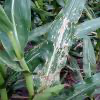Corn Gray leaf spot: (33, 0, 88, 95), (11, 2, 34, 52), (19, 19, 58, 43), (66, 72, 99, 99), (80, 34, 95, 83), (72, 17, 99, 44)
